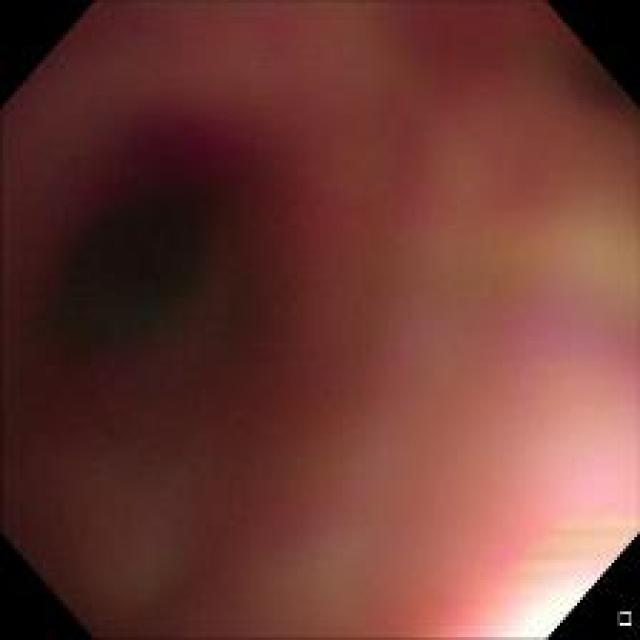blur: (9, 8, 631, 630)
contrast: (39, 140, 239, 400)
saturation: (491, 570, 599, 632)
